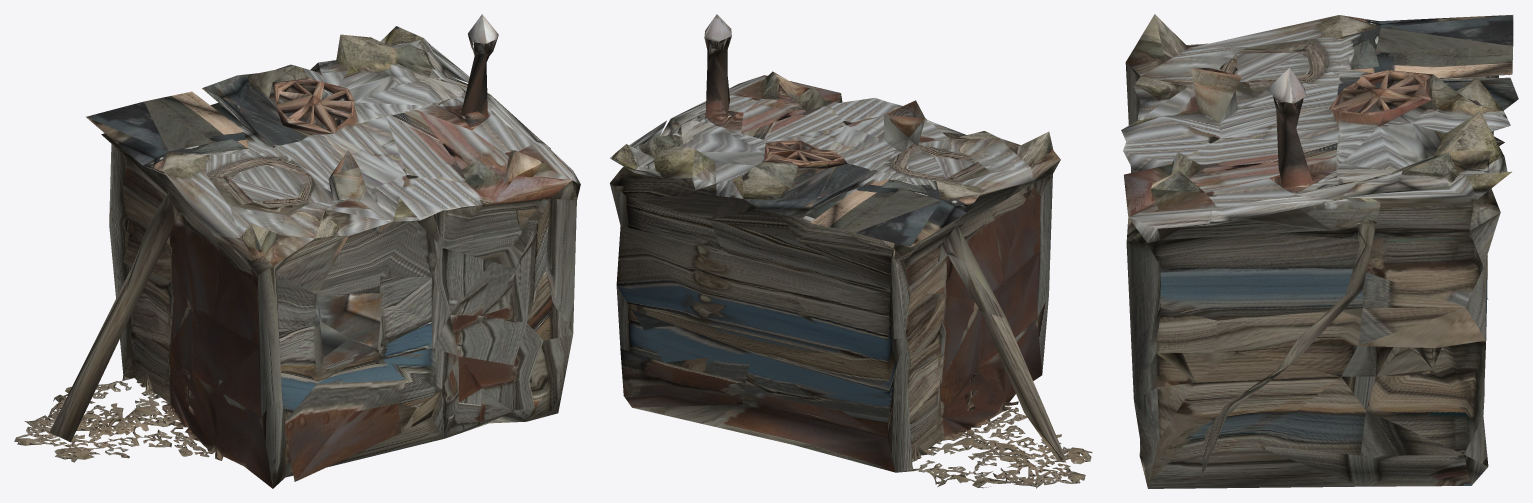
The model's file is shack_a.glb.
3 views of the same model, side by side, from view 1: azimuth 30°, elevation 25°; view 2: azimuth 150°, elevation 25°; view 3: azimuth 270°, elevation 25° (orthographic). The views are drawn at different scales.
Visible parts, largest first — view 1: mesh_node; view 2: mesh_node; view 3: mesh_node.
Part boxes in pixels (bbox=[...]): mesh_node: bbox=[14, 14, 580, 488]; mesh_node: bbox=[610, 14, 1092, 488]; mesh_node: bbox=[1121, 14, 1518, 488].
Size of the model in its own units: 1.89 by 1.37 by 1.19.
1 material, 1 textured.
